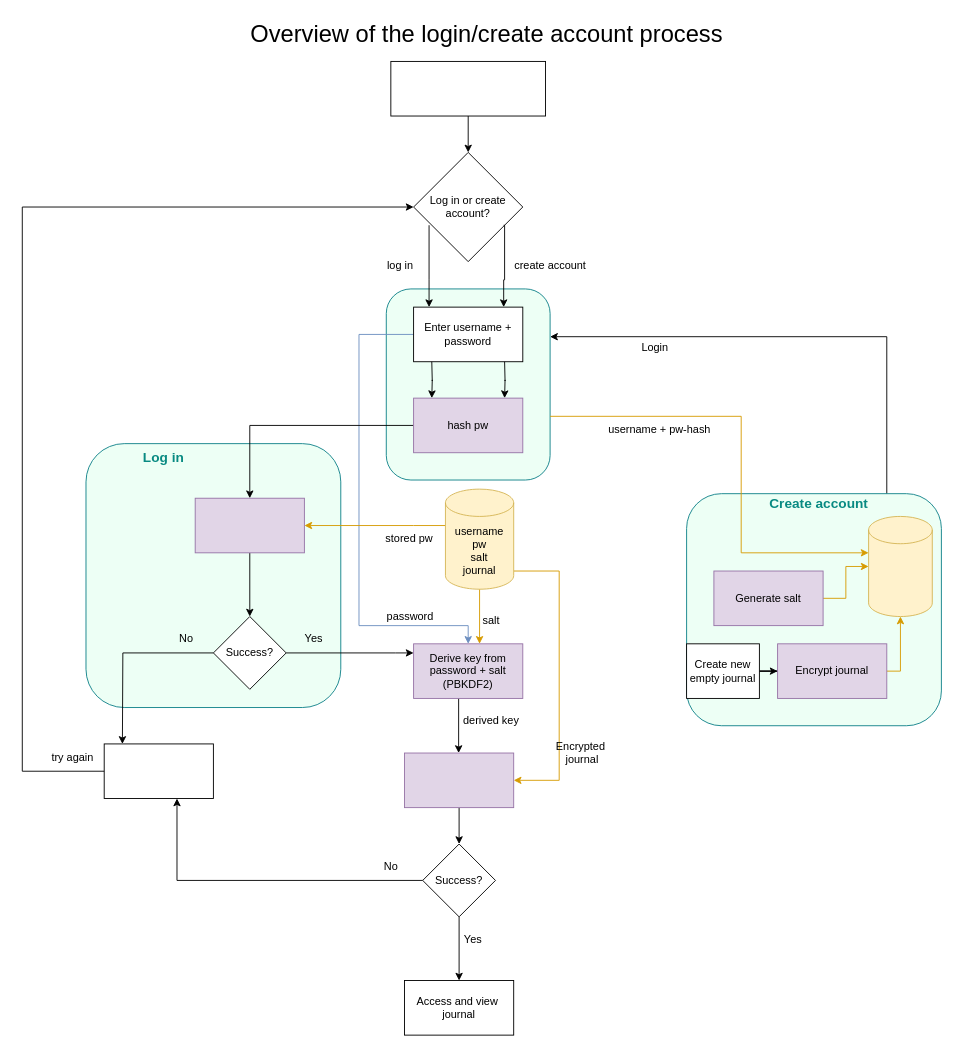
Some shapes in this 957 by 1051 pixel diagram are drawn without their labels. Here are the shapes that lost their labels. From the top down, the centre of each, then its label:
At point (468, 88): "Welcome to the encrypted journal app".
At point (249, 525): "compare entered hash with stored pw".
At point (900, 566): "username pw hash salt journal".
At point (158, 771): "error msg".
At point (459, 780): "Decrypt ( AES-128)".
